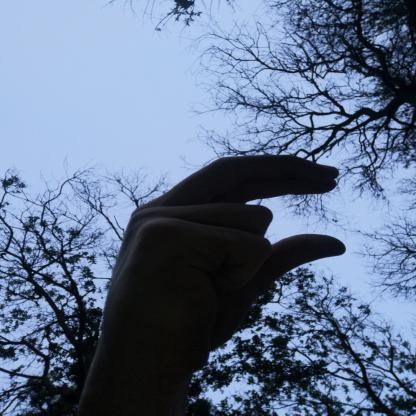DHELL: (78, 146, 359, 379)
